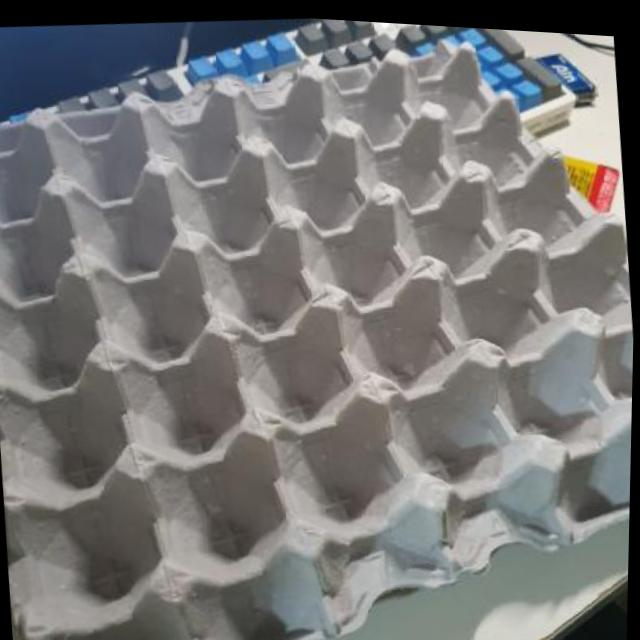box: (0, 7, 640, 640)
